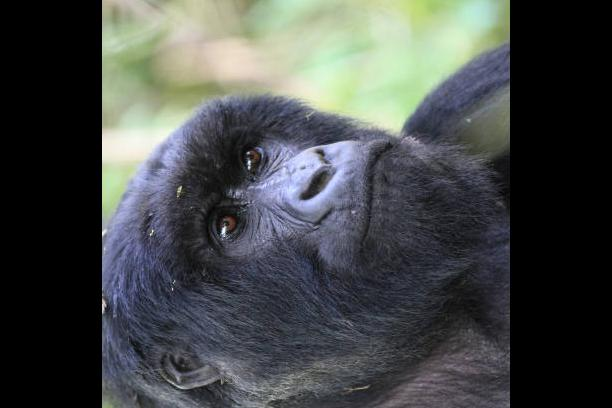goriile_montagne: (109, 7, 508, 408)
